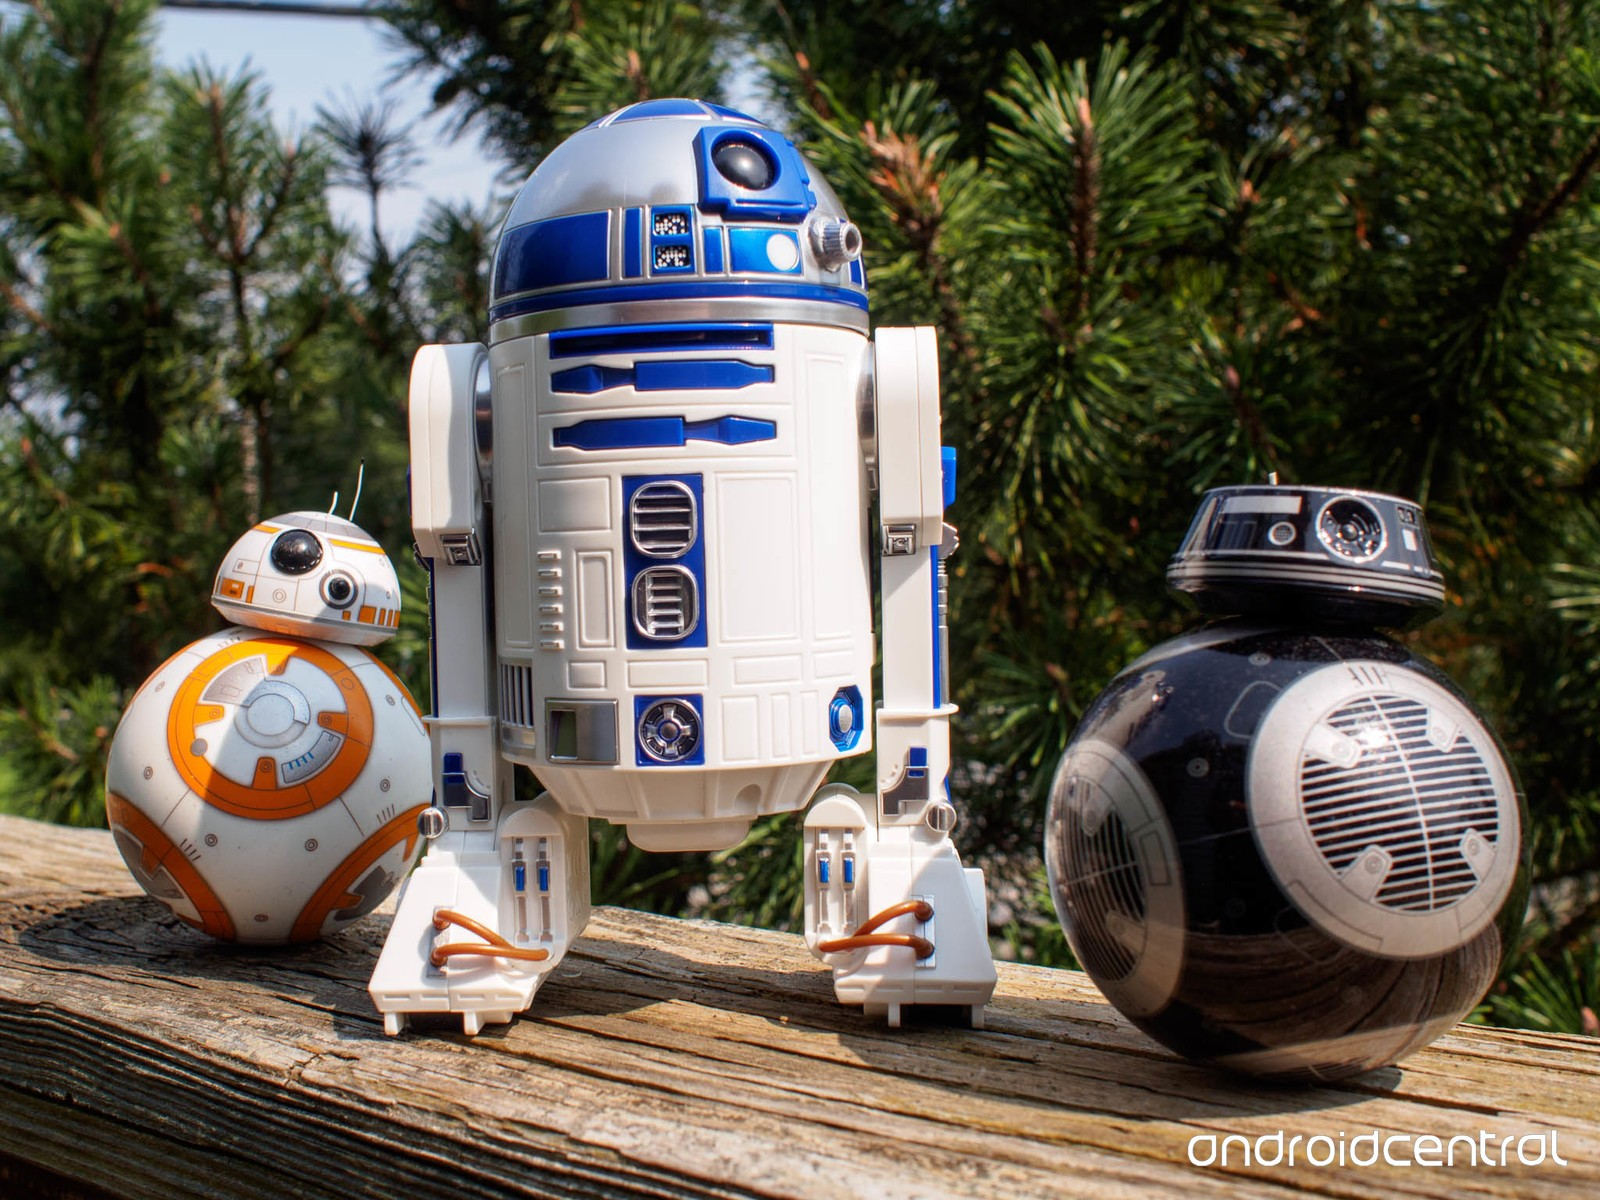r2d2: (411, 96, 991, 1029)
